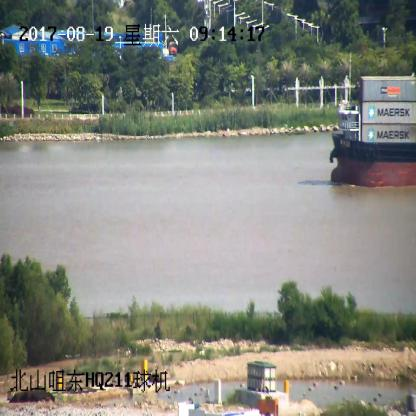Container Ship: (328, 74, 416, 189)
